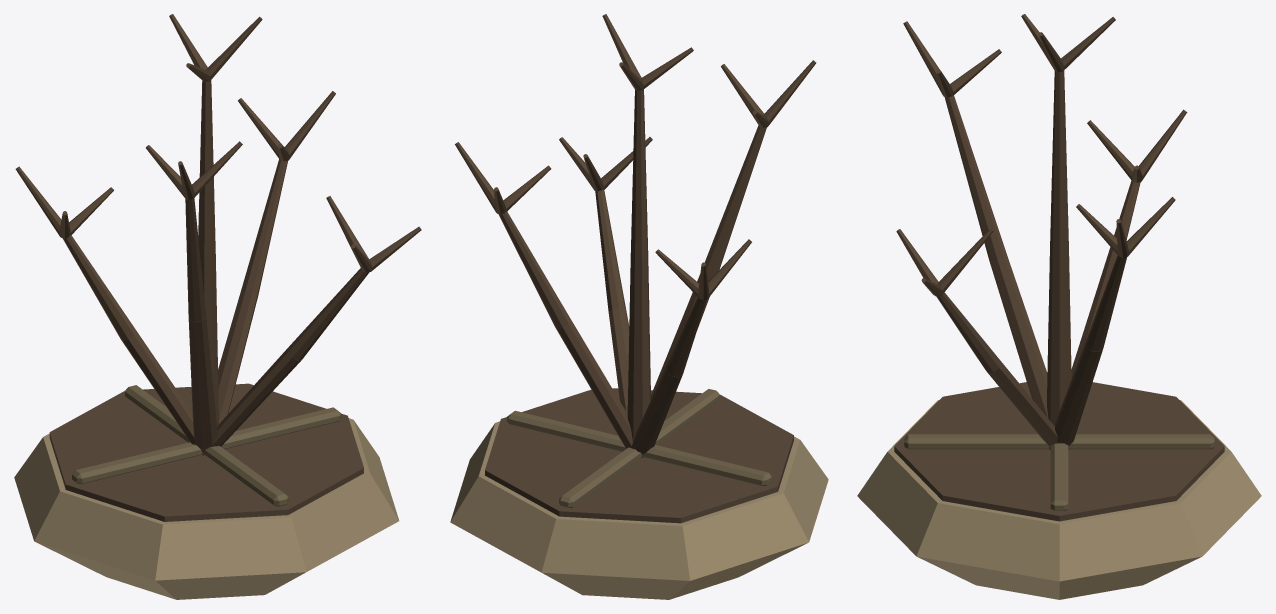
The model's file is blueberry_packed_winter.glb.
3 renders of one model, left to right at view 1: azimuth 30°, elevation 25°; view 2: azimuth 150°, elevation 25°; view 3: azimuth 270°, elevation 25°, orthographic. The views are drawn at different scales.
Parts seen in each view (by area): view 1: blueberry_packed_winter; view 2: blueberry_packed_winter; view 3: blueberry_packed_winter.
Part boxes in pixels (<box>): blueberry_packed_winter: <box>14,14,421,599</box>; blueberry_packed_winter: <box>450,14,828,599</box>; blueberry_packed_winter: <box>857,14,1261,599</box>.
Size of the model in its own units: 1.2 by 1.76 by 1.2.
